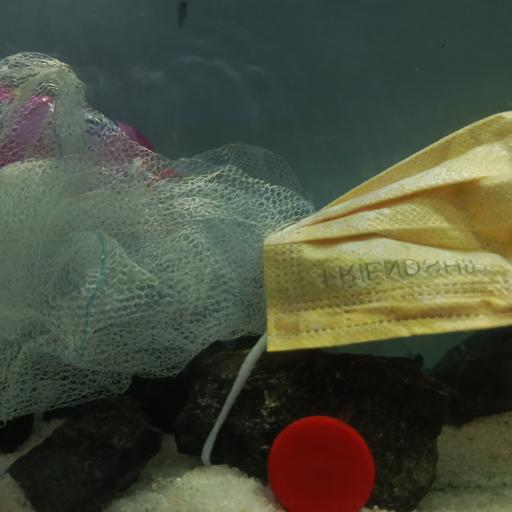bottle_cap: (266, 415, 373, 512)
mask: (225, 108, 512, 384)
net: (2, 50, 320, 417)
plastic_bottle: (0, 82, 180, 197)
